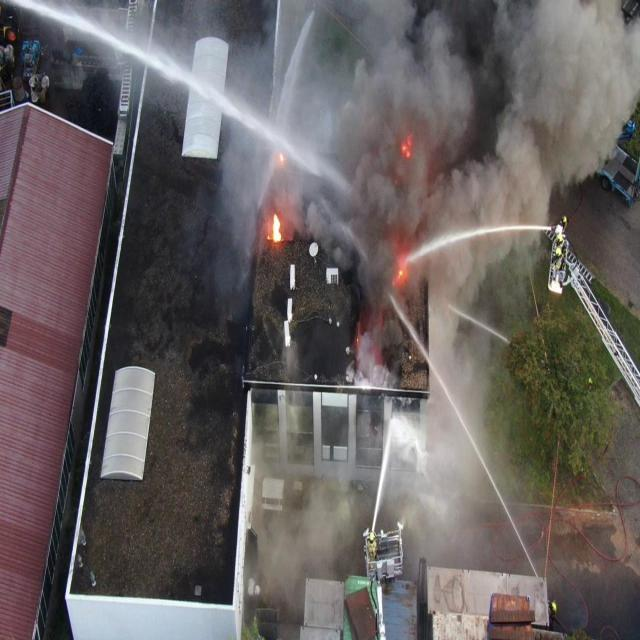Fire: (273, 213, 282, 242), (401, 136, 412, 159), (280, 154, 284, 162), (267, 234, 270, 240), (399, 270, 402, 276)
Smoke: (218, 0, 640, 613)
